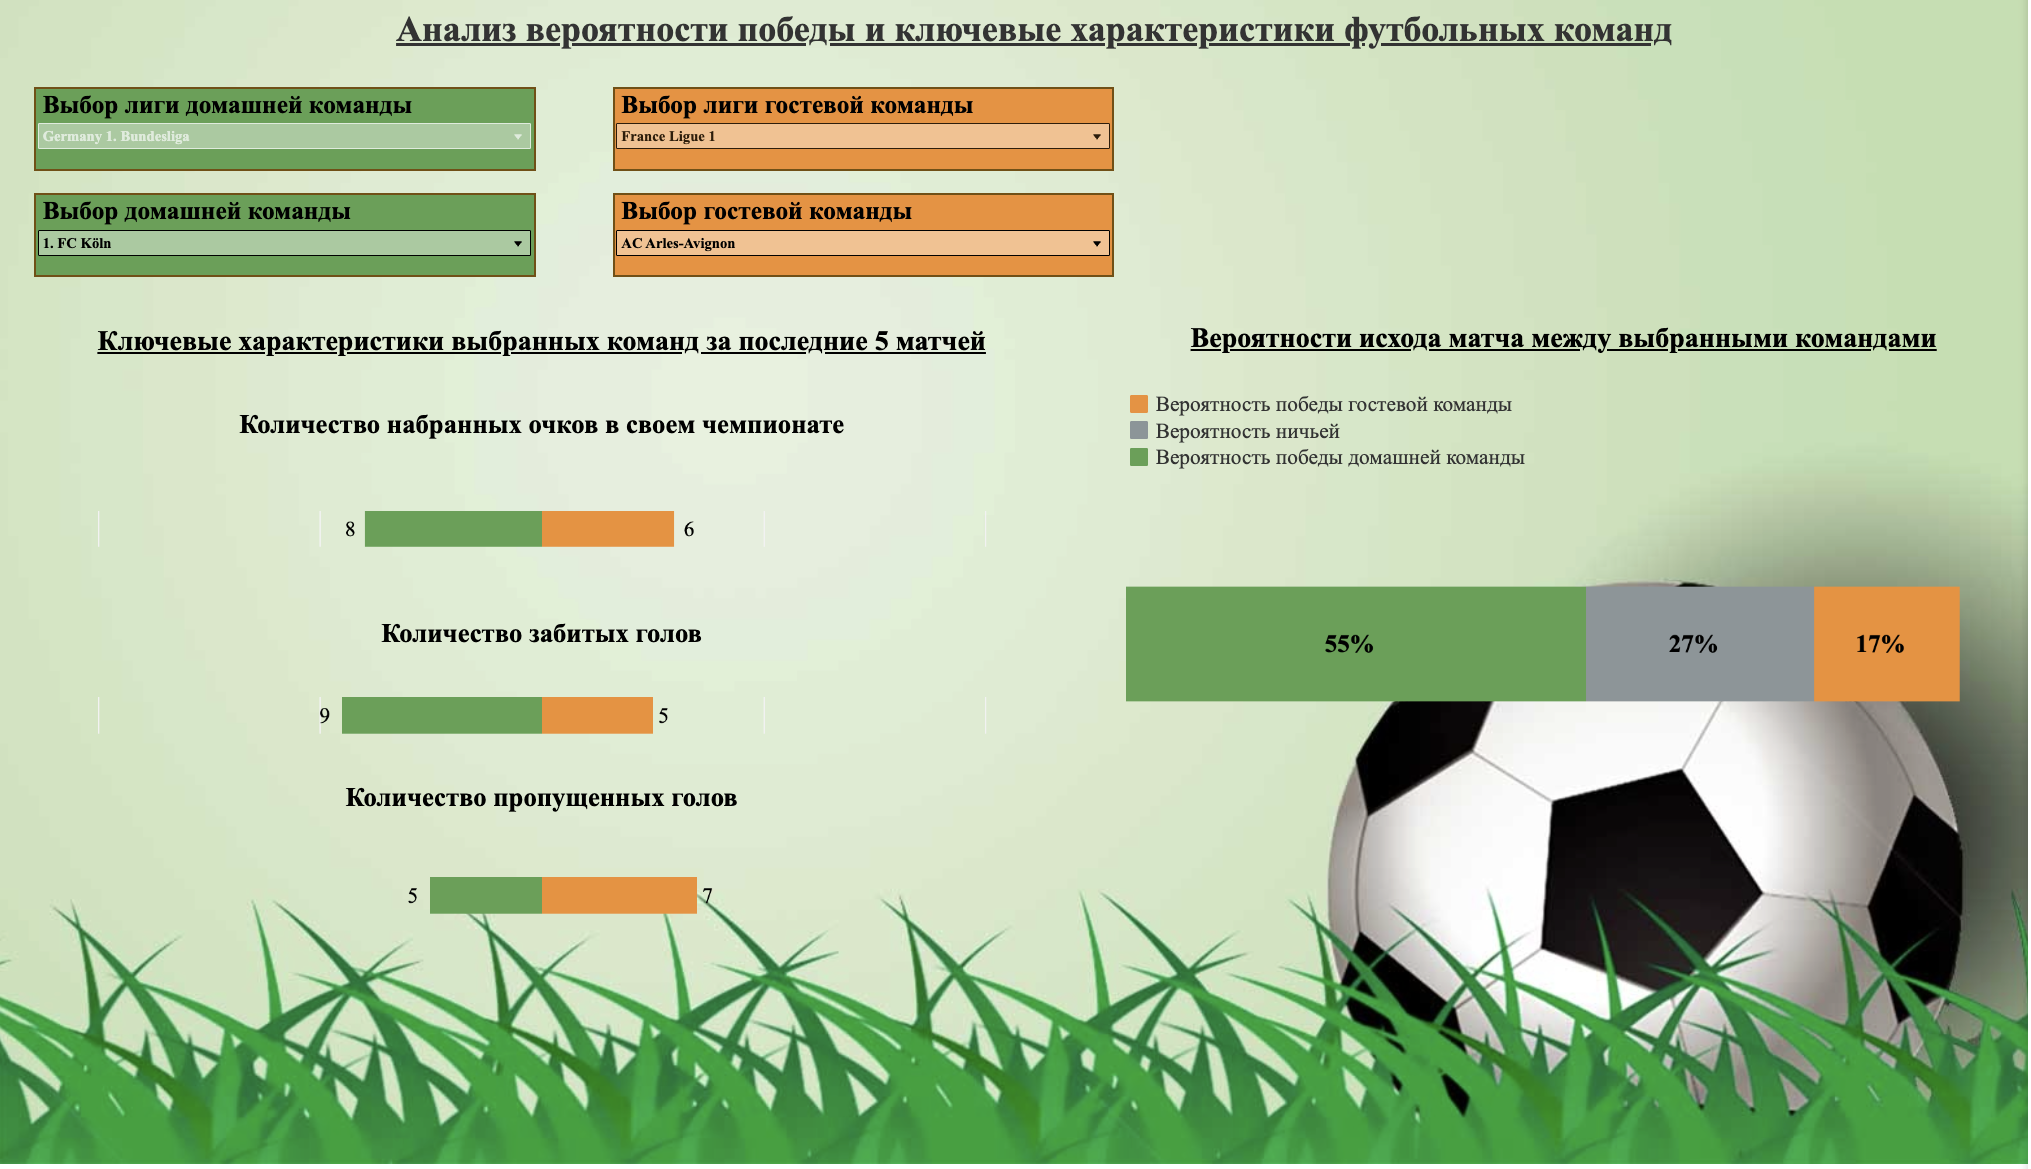

This screenshot's page, from the dashboard's own definition file:
{"tool":"tableau","page":{"name":"Dashboard 1","canvas":[1600,900],"ordinal":0},"visuals":[{"type":"image","param":"Image/generated-image (2).png","box":[8,8,1584,884]},{"type":"title","box":[21,12,1556,48]},{"type":"parameter","param":"[Parameters].[home_team_league Parameter]","box":[49,80,376,63]},{"type":"parameter","param":"[Parameters].[away_team_league Parameter]","box":[483,80,376,63]},{"type":"filter","title":"Probability","param":"[federated.0jmgxuv1vn18zr1gdwkk21d7v8cl].[none:Calculation_756604794714611714:nk","box":[49,160,376,63]},{"type":"filter","title":"Probability","param":"[federated.0jmgxuv1vn18zr1gdwkk21d7v8cl].[none:Calculation_756604794713554944:nk","box":[483,160,376,63]},{"type":"text","box":[864,239,664,33]},{"type":"text","box":[27,241,805,50]},{"type":"worksheet","title":"Probability","mark":"Bar","cols":["Pivot Field Values"],"box":[864,272,664,456]},{"type":"text","box":[27,291,805,32]},{"type":"legend","title":"Probability","param":"[federated.0jmgxuv1vn18zr1gdwkk21d7v8cl].[none:Pivot Field Names:nk]","box":[868,308,368,78]},{"type":"worksheet","title":"pts","mark":"Bar","cols":["Calculation_756604794719100932","away_last_5_pts"],"box":[27,323,805,133.7]},{"type":"text","box":[27,456.7,805,32]},{"type":"worksheet","title":"scored","mark":"Bar","cols":["Calculation_756604794723115013","away_goals_scored_last_5"],"box":[27,488.7,805,99.7]},{"type":"text","box":[27,588.3,805,32]},{"type":"worksheet","title":"conceded","mark":"Bar","cols":["Calculation_756604794724757510","away_goals_conceded_last_5"],"box":[27,620.3,805,108.7]}]}

Visuals, with their boxes in screenshot pixels (x1, y1, x2, y2), scaled from the page's 1600x900 canvas onto the 2031x1169 screenshot:
image: 10,10,2021,1159
title: 27,16,2002,78
parameter: 62,104,539,186
parameter: 613,104,1090,186
"Probability" filter: 62,208,539,290
"Probability" filter: 613,208,1090,290
text: 1097,310,1940,353
text: 34,313,1056,378
"Probability" worksheet (Bar marks): 1097,353,1940,946
text: 34,378,1056,420
"Probability" legend: 1102,400,1569,501
"pts" worksheet (Bar marks): 34,420,1056,593
text: 34,593,1056,635
"scored" worksheet (Bar marks): 34,635,1056,764
text: 34,764,1056,806
"conceded" worksheet (Bar marks): 34,806,1056,947
